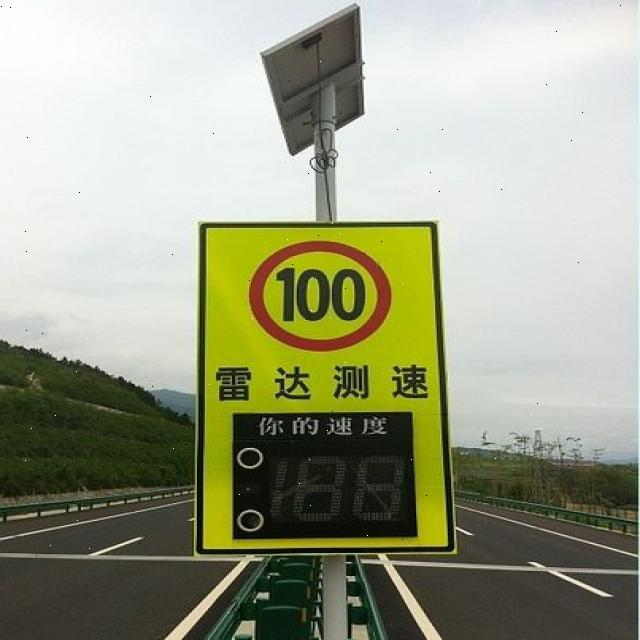speed limit 100: (246, 242, 392, 352)
